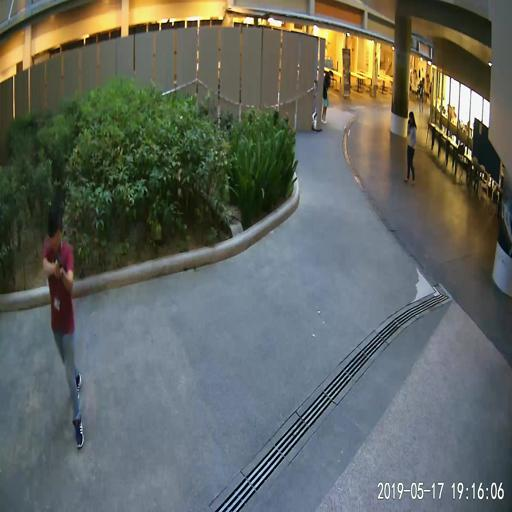pistol: (54, 253, 64, 276)
